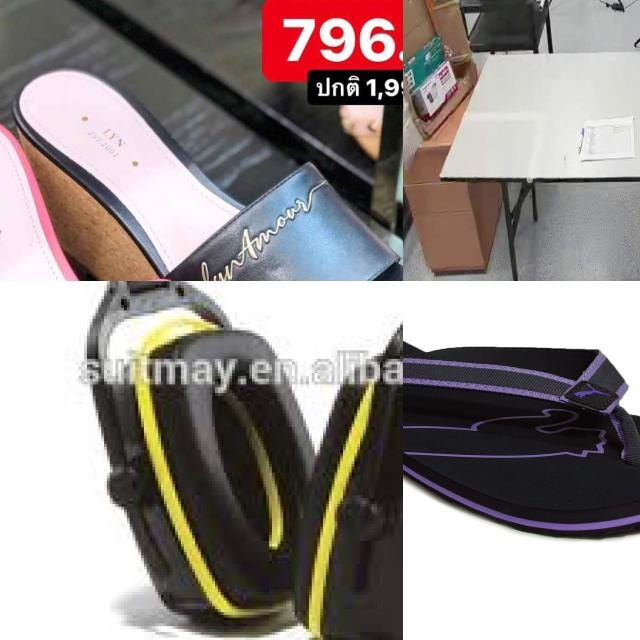Ear-protection: (87, 288, 304, 638), (289, 344, 403, 640)
Sandals: (0, 29, 403, 281), (403, 321, 640, 542), (0, 97, 262, 281)
